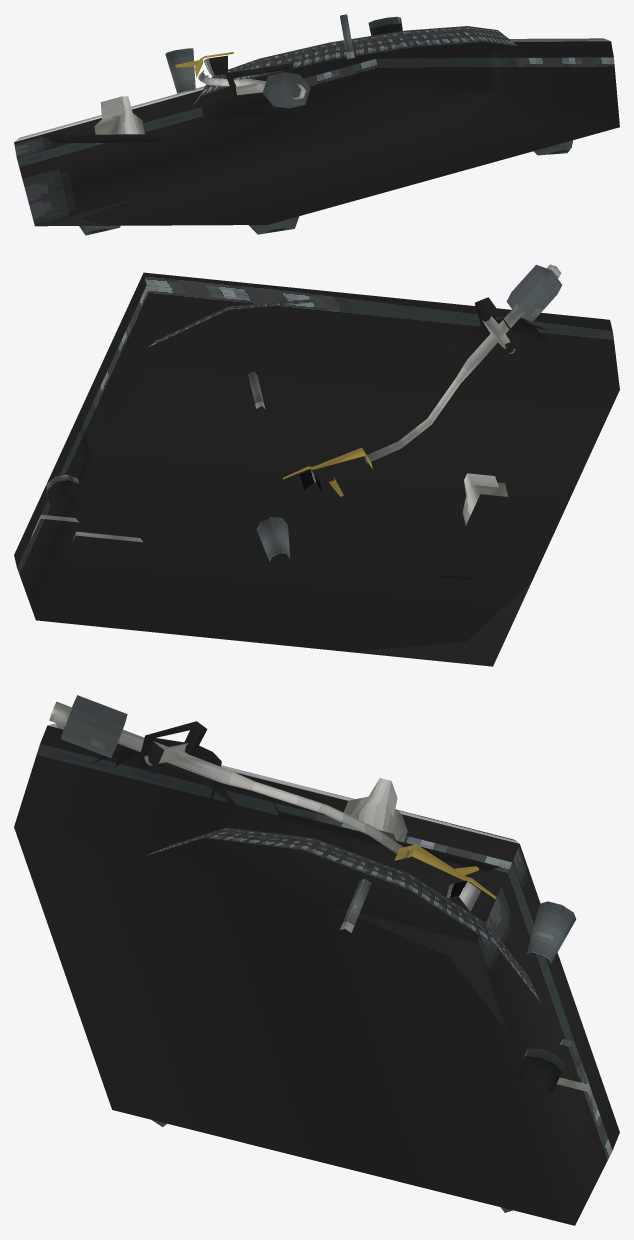
Rendered from ps2_save-icons_djhero.glb.
3 renders of one model, top to bottom at view 1: azimuth 30°, elevation 25°; view 2: azimuth 150°, elevation 25°; view 3: azimuth 270°, elevation 25°, orthographic. The views are drawn at different scales.
Visible parts, largest first — view 1: djhero.ico; view 2: djhero.ico; view 3: djhero.ico.
Boxes of the visible parts, x1,y1,x2,y2 form: djhero.ico: [14, 14, 619, 235]; djhero.ico: [14, 264, 619, 666]; djhero.ico: [14, 695, 619, 1225].
Bounding box in the file's own units: 4.29 × 2.38 × 3.75.
Materials: 1 (1 with a texture image).
